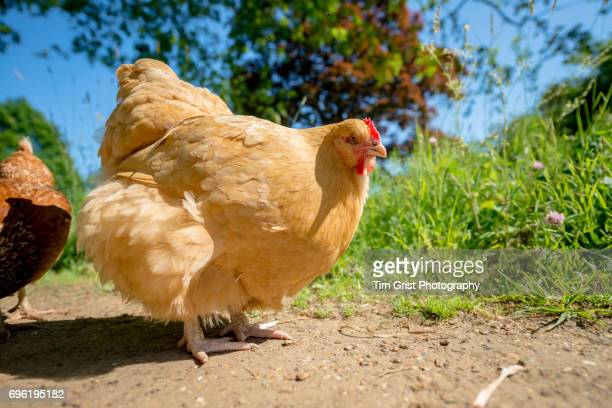buff: (98, 55, 391, 361)
